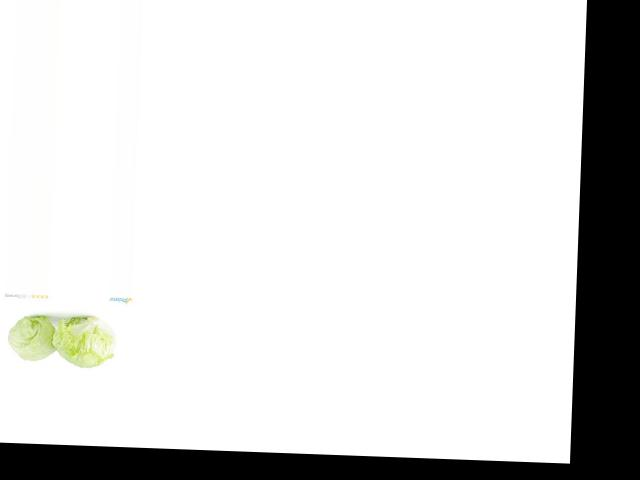lettuce: (5, 304, 71, 362)
